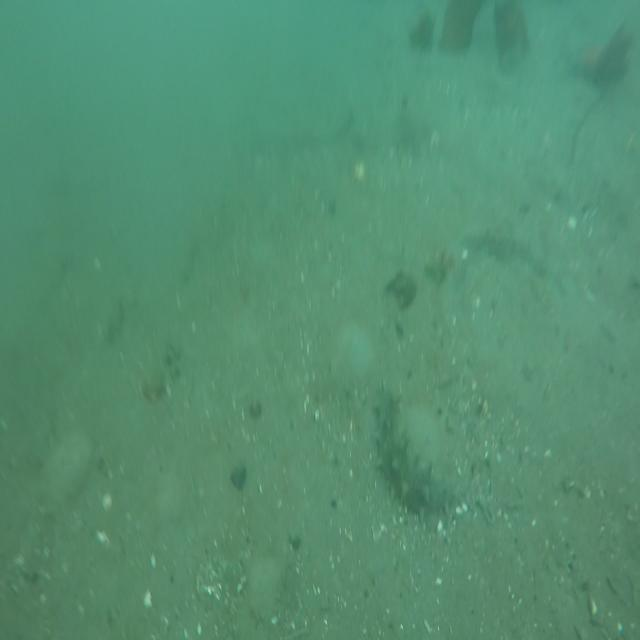holothurian: (373, 388, 456, 521)
